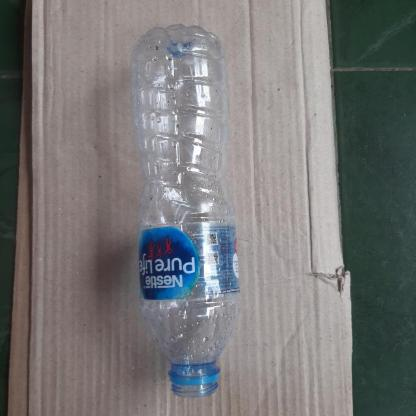Plastic Bottle: (134, 20, 240, 398)
